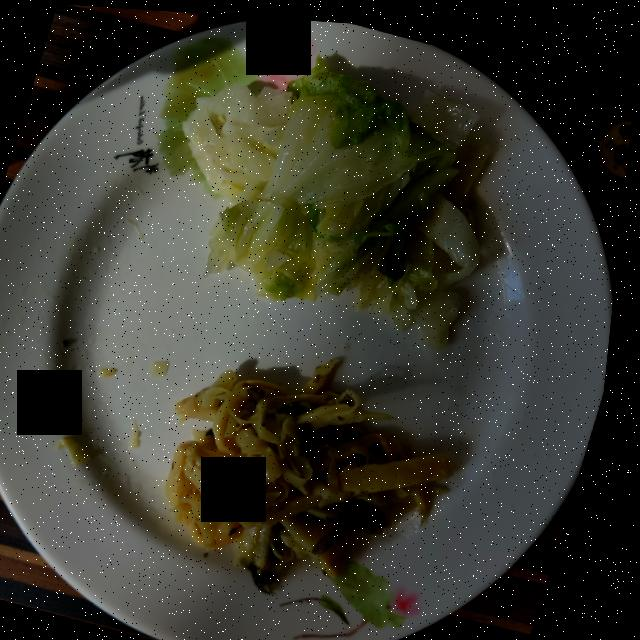cabbage: (183, 54, 492, 342)
coin: (600, 110, 634, 171)
